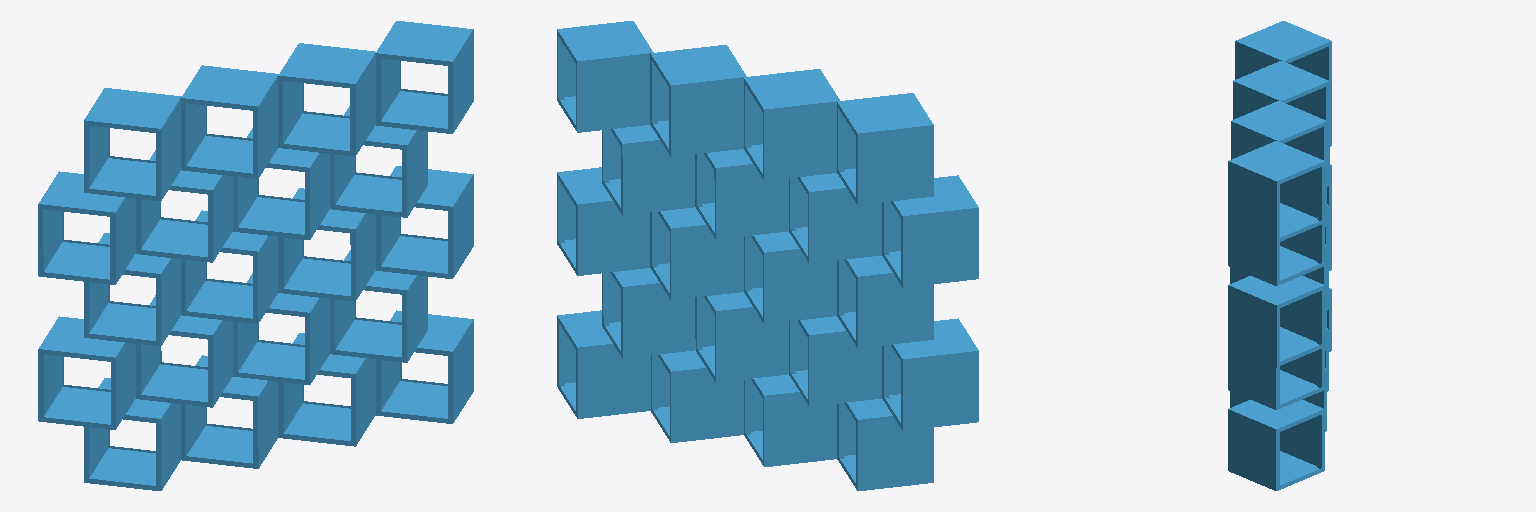
robot.urdf — shelf:
<?xml version="0.0" ?>
<robot name="shelf">

  <link name="base_link">
    <inertial>
      <origin rpy="0 0 0" xyz="0 0 0"/>
       <mass value=".0"/>
       <inertia ixx="0" ixy="0" ixz="0" iyy="0" iyz="0" izz="0"/>
    </inertial>
  </link>

  <link name="obj">
    <inertial>
      <origin rpy="0 0 0" xyz="0 0 0"/>
       <mass value=".0"/>
       <inertia ixx="0" ixy="0" ixz="0" iyy="0" iyz="0" izz="0"/>
    </inertial>
    <visual>
      <origin rpy="1.57 0 0" xyz="0 0 0"/>
      <geometry>
        <mesh filename="package://uwds3/models/cad_models/obj/raf2.obj" scale="0.01 0.01 0.01"/>
      </geometry>


    </visual>
  </link>

  <joint name="base_to_obj" type="revolute">
    <parent link="base_link"/>
    <child link="obj"/>
    <axis xyz="0 0 1"/>
    <limit effort="1000.0" lower="0.0" upper="1.57" velocity="0.5"/>
    <origin rpy="0 0 0" xyz="0 0 0"/>
  </joint>




</robot>

--- What the picture shows (computed from the rendered views, not written in the file) ---
3 views of the same robot in one strip: view 1: azimuth 30°, elevation 25°; view 2: azimuth 150°, elevation 25°; view 3: azimuth 270°, elevation 25° (orthographic).
Model shelf with 2 links and 1 joints (1 revolute), rooted at base_link, posed all joints at 0.
Visible links, largest first — view 1: obj; view 2: obj; view 3: obj.
Link boxes in pixels (x1=…): obj: x1=38, y1=21, x2=473, y2=490; obj: x1=557, y1=21, x2=978, y2=490; obj: x1=1228, y1=21, x2=1331, y2=490.
Size in the robot's own frame: 1.87 by 0.4559 by 1.5 metres.
Meshes: 1 distinct files referenced, 1 mesh visuals loaded (1 OBJ).